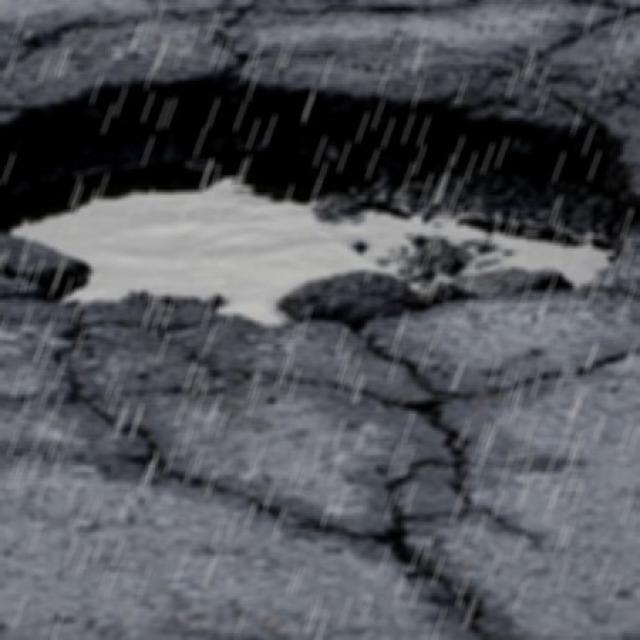road-pothole: (2, 55, 633, 327)
